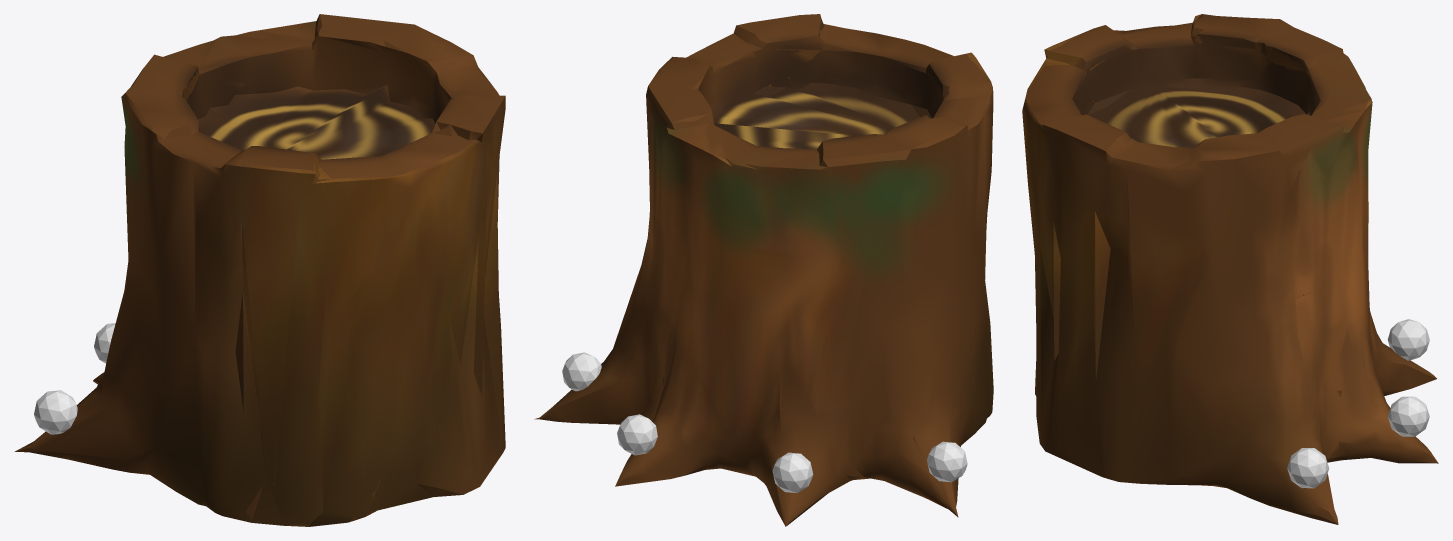
File: tree_stump.fbx
The picture shows the model from 3 angles, left to right: view 1: azimuth 30°, elevation 25°; view 2: azimuth 150°, elevation 25°; view 3: azimuth 270°, elevation 25°; orthographic projection. The views are drawn at different scales.
Parts seen in each view (by area): view 1: Cylinder.001, Icosphere1; view 2: Cylinder.001, Icosphere1, Icosphere2, Icosphere3, Icosphere4; view 3: Cylinder.001, Icosphere3, Icosphere4, Icosphere2.
Part boxes in pixels (x1,y1,x2,y2): Cylinder.001: (14,14,505,526); Icosphere1: (34,390,77,434); Cylinder.001: (534,14,993,526); Icosphere1: (927,441,967,482); Icosphere2: (772,452,813,492); Icosphere3: (617,414,657,455); Icosphere4: (562,352,601,391); Cylinder.001: (1022,14,1438,524); Icosphere3: (1387,396,1429,436); Icosphere4: (1287,448,1329,488); Icosphere2: (1387,319,1429,360).
Bounding box in the file's own units: 279 × 236 × 211.
1 material, 1 textured.
